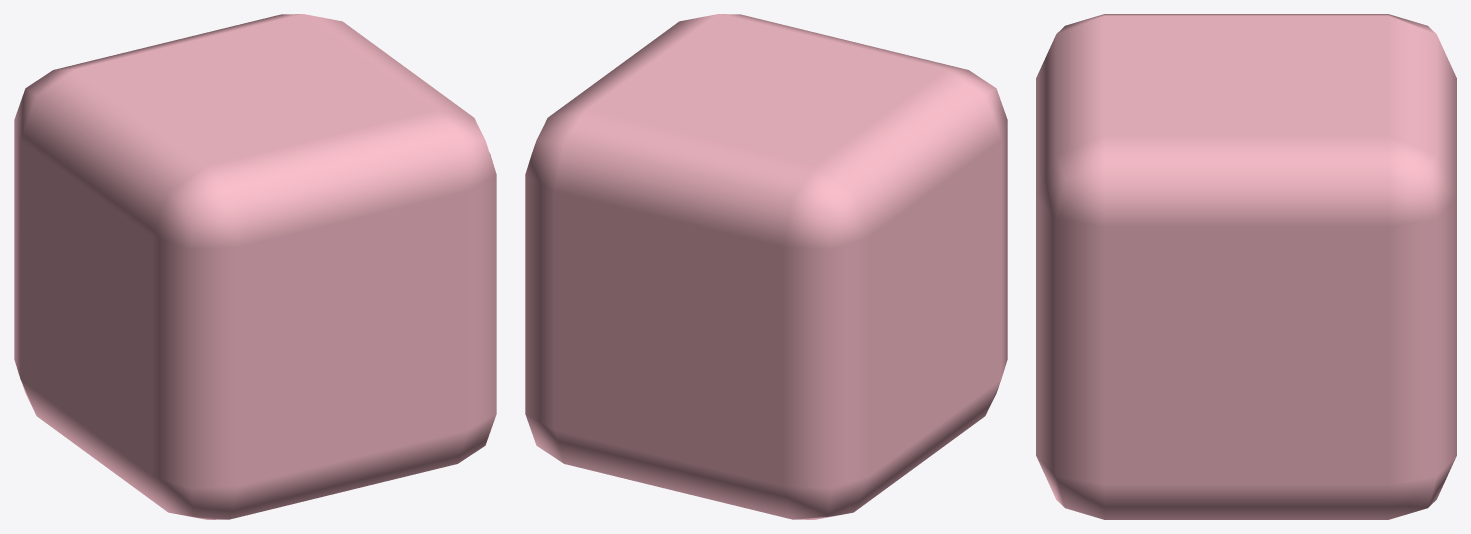
File: worm_segment_block.glb
The picture shows the model from 3 angles, left to right: view 1: azimuth 30°, elevation 25°; view 2: azimuth 150°, elevation 25°; view 3: azimuth 270°, elevation 25°; orthographic projection. The views are drawn at different scales.
Parts seen in each view (by area): view 1: worm_segment_block; view 2: worm_segment_block; view 3: worm_segment_block.
Boxes of the visible parts, x1,y1,x2,y2 form: worm_segment_block: (14,14,496,519); worm_segment_block: (525,14,1007,519); worm_segment_block: (1036,14,1456,519).
Size of the model in its own units: 0.86 by 0.86 by 0.86.
